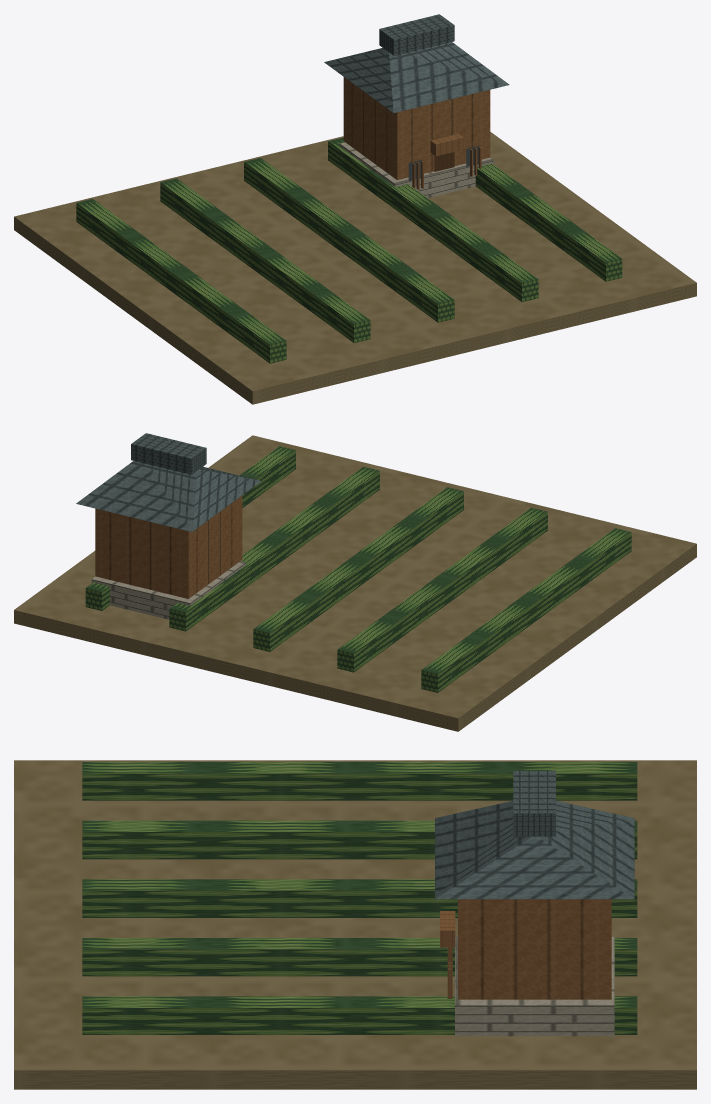
File: domestic-FARM-2-lod1.glb
3 renders of one model, top to bottom at view 1: azimuth 30°, elevation 25°; view 2: azimuth 150°, elevation 25°; view 3: azimuth 270°, elevation 25°, orthographic. The views are drawn at different scales.
Size of the model in its own units: 0.86 by 0.296 by 0.8.
Materials: 1 (1 with a texture image).
